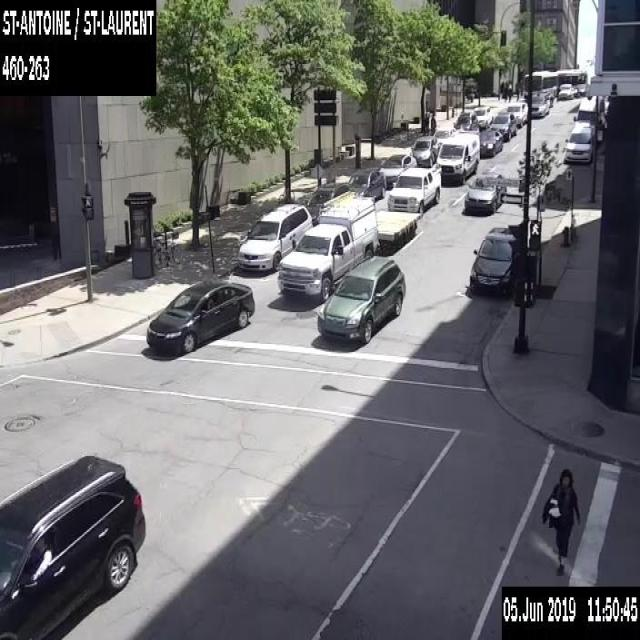bus: (523, 68, 557, 98), (555, 68, 587, 95)
construction: (311, 162, 323, 188)
pedestrian: (541, 465, 581, 575), (423, 111, 428, 135), (430, 113, 435, 134), (515, 81, 519, 100), (507, 81, 511, 100), (503, 81, 507, 100), (500, 80, 504, 99)
vehicle: (0, 452, 146, 638), (276, 190, 422, 300), (146, 278, 254, 354), (316, 256, 406, 341), (237, 202, 312, 270), (468, 223, 516, 297), (387, 165, 441, 213), (435, 129, 479, 184), (305, 181, 353, 225), (464, 169, 506, 212), (572, 94, 604, 141), (347, 168, 386, 200), (378, 153, 416, 185), (564, 127, 592, 162), (410, 134, 440, 166), (489, 111, 517, 139), (478, 129, 502, 156), (504, 101, 528, 126), (432, 126, 456, 148), (473, 105, 493, 129), (454, 111, 478, 129), (531, 94, 548, 118), (558, 83, 573, 99), (576, 82, 586, 94), (571, 84, 578, 94)
